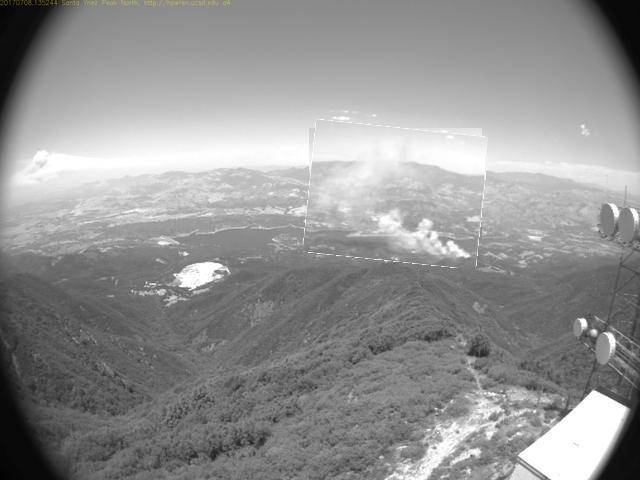smoke: (307, 125, 487, 266)
